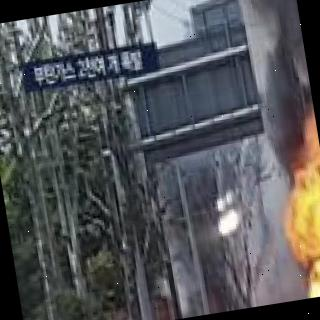fire: (274, 154, 320, 300)
